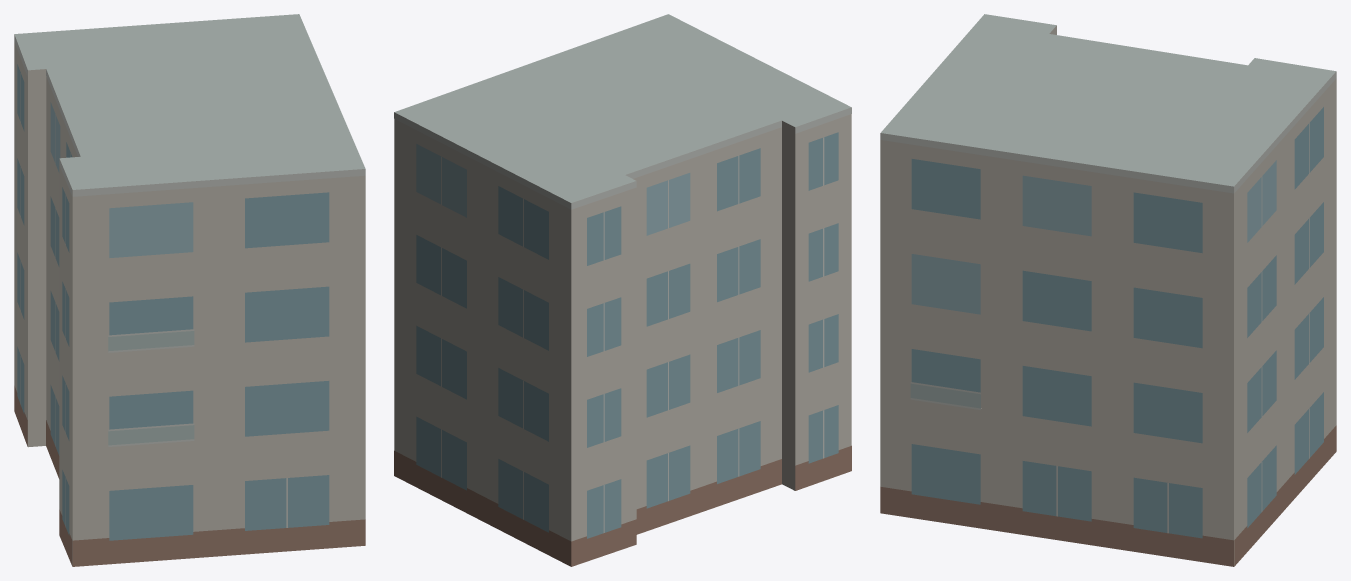
File: survey-upis-32799684.glb
3 renders of one model, left to right at view 1: azimuth 30°, elevation 25°; view 2: azimuth 150°, elevation 25°; view 3: azimuth 270°, elevation 25°, orthographic. The views are drawn at different scales.
Parts seen in each view (by area): view 1: survey-upis-32799684.tmp; view 2: survey-upis-32799684.tmp; view 3: survey-upis-32799684.tmp.
Boxes of the visible parts, left/top/right/bottom form: survey-upis-32799684.tmp: left=14, top=14, right=365, bottom=566; survey-upis-32799684.tmp: left=394, top=14, right=851, bottom=566; survey-upis-32799684.tmp: left=880, top=14, right=1336, bottom=566.
Bounding box in the file's own units: 13.1 × 13.45 × 14.63.
